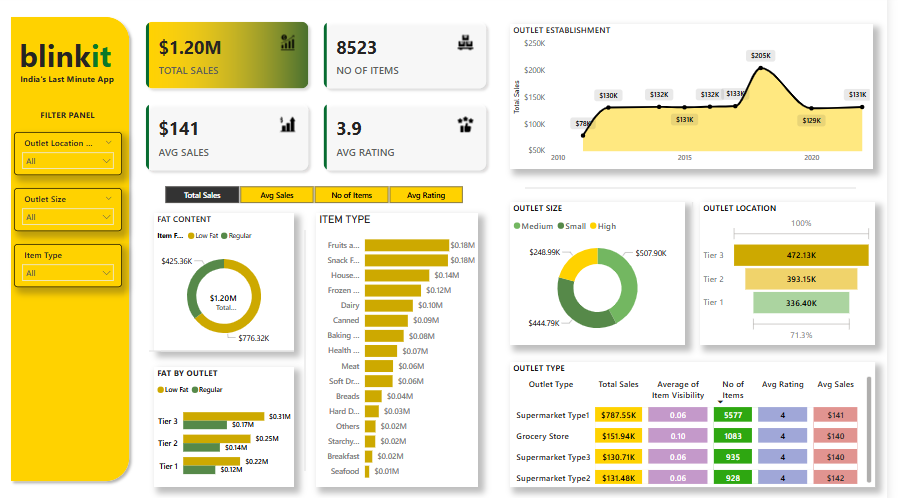

What the dashboard file says about the page in this screenshot:
{"tool":"powerbi","page":{"name":"blinkit data analysis","canvas":[1400,800],"ordinal":0},"visuals":[{"type":"shape","box":[11,25.2,204.7,749.6],"z":0},{"type":"textbox","box":[28.3,56.7,166.9,78.7],"z":1000},{"type":"textbox","box":[29.9,118.1,166.9,33.1],"z":2000},{"type":"cardVisual","fields":{"Data":["BlinkIT Grocery Data.Total Sales","BlinkIT Grocery Data.No of Items","BlinkIT Grocery Data.Avg Sales","BlinkIT Grocery Data.Avg Rating"]},"box":[215.7,25.2,570.1,269.3],"z":3000},{"type":"donutChart","title":"FAT CONTENT","fields":{"Y":["BlinkIT Grocery Data.Total Sales"],"Category":["BlinkIT Grocery Data.Item Fat Content"]},"box":[245.7,343.3,220.5,217.3],"z":5000},{"type":"slicer","fields":{"Values":["Metrics.Metrics"]},"box":[237.8,294.5,518.1,39.4],"z":6000},{"type":"cardVisual","fields":{"Data":["BlinkIT Grocery Data.Total Sales"]},"box":[313.4,450.4,83.5,59.8],"z":7000},{"type":"clusteredBarChart","title":"FAT BY OUTLET","fields":{"Y":["BlinkIT Grocery Data.Total Sales"],"Category":["BlinkIT Grocery Data.Outlet Location Type"],"Series":["BlinkIT Grocery Data.Item Fat Content"]},"box":[245.7,585.8,220.5,189],"z":8000},{"type":"shape","box":[256.7,551.2,209.4,18.9],"z":9000},{"type":"shape","box":[477.2,370.1,12.6,379.5],"z":10000},{"type":"barChart","title":"ITEM TYPE","fields":{"Y":["BlinkIT Grocery Data.Total Sales"],"Category":["BlinkIT Grocery Data.Item Type"]},"box":[500.8,343.3,255.1,431.5],"z":11000},{"type":"shape","box":[237.8,551.2,228.3,18.9],"z":12000},{"type":"lineChart","title":"OUTLET ESTABLISHMENT","fields":{"Y":["BlinkIT Grocery Data.Total Sales"],"Category":["BlinkIT Grocery Data.Outlet Establishment Year"]},"box":[806.3,45.7,571.7,228.3],"z":13000},{"type":"shape","box":[829.9,294.5,521.3,18.9],"z":14000},{"type":"donutChart","title":"OUTLET SIZE","fields":{"Y":["BlinkIT Grocery Data.Total Sales"],"Category":["BlinkIT Grocery Data.Outlet Size"]},"box":[806.3,326,275.6,225.2],"z":14001},{"type":"shape","box":[1086.6,326,14.2,200],"z":14002},{"type":"funnel","title":"OUTLET LOCATION ","fields":{"Y":["Sum(BlinkIT Grocery Data.Sales)"],"Category":["BlinkIT Grocery Data.Outlet Location Type"]},"box":[1105.5,326,275.6,225.2],"z":14003},{"type":"pivotTable","title":"OUTLET TYPE","fields":{"Rows":["BlinkIT Grocery Data.Outlet Type"],"Values":["BlinkIT Grocery Data.Total Sales","Avg(BlinkIT Grocery Data.Item Visibility)","BlinkIT Grocery Data.No of Items","BlinkIT Grocery Data.Avg Rating","BlinkIT Grocery Data.Avg Sales"]},"box":[806.3,578,574.8,196.9],"z":14004},{"type":"slicer","fields":{"Values":["BlinkIT Grocery Data.Outlet Location Type"]},"box":[25.2,215.7,170.1,67.7],"z":14005},{"type":"slicer","fields":{"Values":["BlinkIT Grocery Data.Outlet Size"]},"box":[25.2,303.9,170.1,67.7],"z":14006},{"type":"slicer","fields":{"Values":["BlinkIT Grocery Data.Item Type"]},"box":[25.2,392.1,170.1,67.7],"z":14007},{"type":"textbox","box":[23.6,174.8,171.7,28.3],"z":14008}]}

Visuals, with their boxes on the page's 1400x800 design canvas (x1, y1, x2, y2). These are canvas units, not pixel positions in the 898x498 screenshot, which may show the page scaled, cropped or inside an application window:
shape: (x1=11, y1=25, x2=216, y2=775)
textbox: (x1=28, y1=57, x2=195, y2=135)
textbox: (x1=30, y1=118, x2=197, y2=151)
cardVisual - BlinkIT Grocery Data.Total Sales x BlinkIT Grocery Data.No of Items: (x1=216, y1=25, x2=786, y2=294)
"FAT CONTENT" donutChart: (x1=246, y1=343, x2=466, y2=561)
slicer - Metrics.Metrics: (x1=238, y1=294, x2=756, y2=334)
cardVisual - BlinkIT Grocery Data.Total Sales: (x1=313, y1=450, x2=397, y2=510)
"FAT BY OUTLET" clusteredBarChart: (x1=246, y1=586, x2=466, y2=775)
shape: (x1=257, y1=551, x2=466, y2=570)
shape: (x1=477, y1=370, x2=490, y2=750)
"ITEM TYPE" barChart: (x1=501, y1=343, x2=756, y2=775)
shape: (x1=238, y1=551, x2=466, y2=570)
"OUTLET ESTABLISHMENT" lineChart: (x1=806, y1=46, x2=1378, y2=274)
shape: (x1=830, y1=294, x2=1351, y2=313)
"OUTLET SIZE" donutChart: (x1=806, y1=326, x2=1082, y2=551)
shape: (x1=1087, y1=326, x2=1101, y2=526)
"OUTLET LOCATION " funnel: (x1=1106, y1=326, x2=1381, y2=551)
"OUTLET TYPE" pivotTable: (x1=806, y1=578, x2=1381, y2=775)
slicer - BlinkIT Grocery Data.Outlet Location Type: (x1=25, y1=216, x2=195, y2=283)
slicer - BlinkIT Grocery Data.Outlet Size: (x1=25, y1=304, x2=195, y2=372)
slicer - BlinkIT Grocery Data.Item Type: (x1=25, y1=392, x2=195, y2=460)
textbox: (x1=24, y1=175, x2=195, y2=203)
